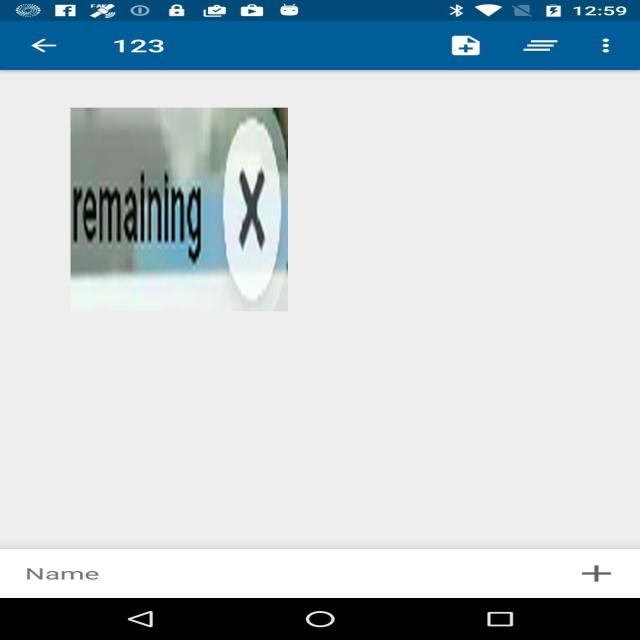misdirection: (71, 108, 288, 311)
